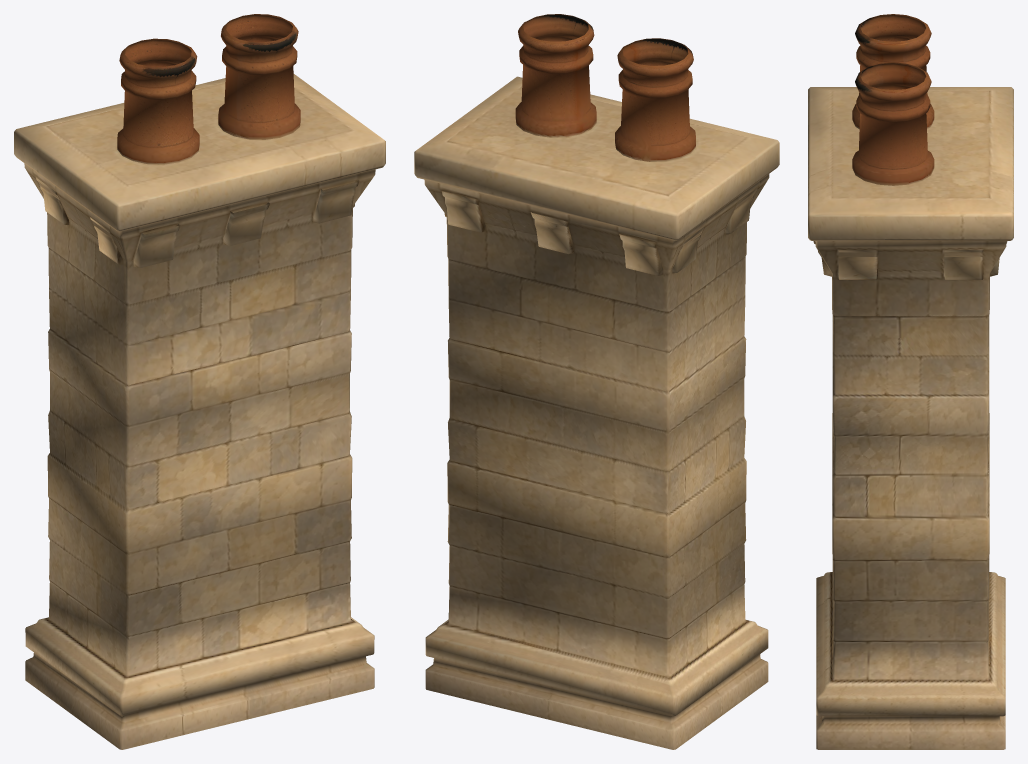
The model's file is Furn_Chimney2.fbx.
3 views of the same model, side by side, from view 1: azimuth 30°, elevation 25°; view 2: azimuth 150°, elevation 25°; view 3: azimuth 270°, elevation 25° (orthographic). The views are drawn at different scales.
Parts seen in each view (by area): view 1: Furn_Chimney2; view 2: Furn_Chimney2; view 3: Furn_Chimney2.
Boxes of the visible parts, x1,y1,x2,y2 form: Furn_Chimney2: (14,14,385,749); Furn_Chimney2: (414,14,779,749); Furn_Chimney2: (808,14,1013,749).
Bounding box in the file's own units: 1.3 × 3 × 0.8779.
Materials: 1 (1 with a texture image).
